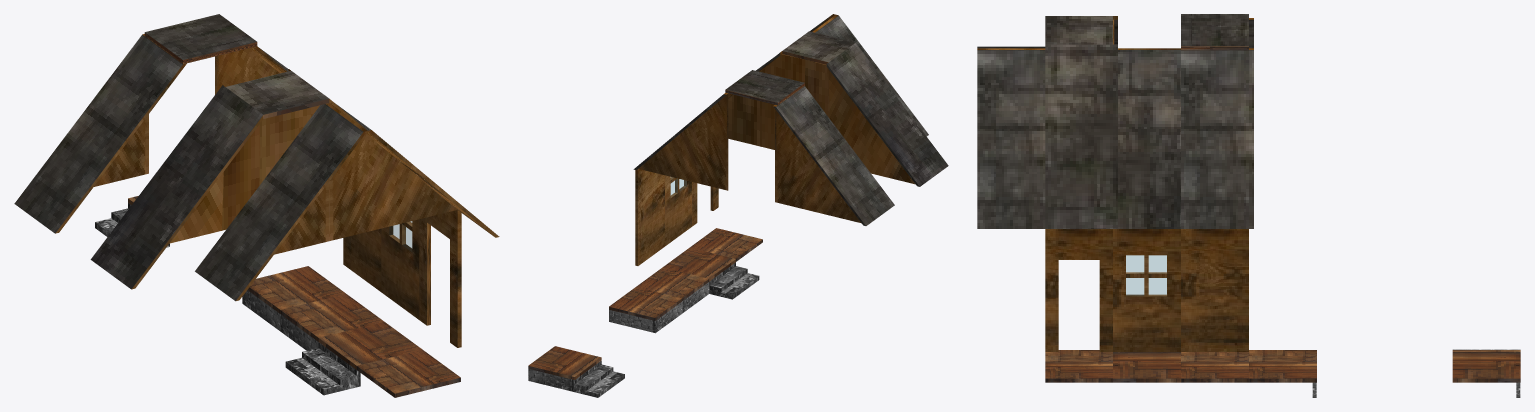
File: ModularHouse2.0.glb
3 renders of one model, left to right at view 1: azimuth 30°, elevation 25°; view 2: azimuth 150°, elevation 25°; view 3: azimuth 270°, elevation 25°, orthographic. The views are drawn at different scales.
Parts seen in each view (by area): view 1: Roof.001, RoofCombo, Roof2, StairBase, Top, Base, CornerBase, Door, Window, Floor.002, Roof, Wall (+1 smaller); view 2: RoofCombo, Roof2, Roof, CornerStair, Wall, StairBase, CornerBase, Base, Top, Window, Floor.002, Roof.001 (+1 smaller); view 3: RoofCombo, Roof, Roof.001, RoofExtender, Wall, Window, Door, Top, CornerStair, CornerBase, Floor.002, Base (+1 smaller).
Part boxes in pixels (x1,y1,x2,y2): Roof.001: (195,102,499,301); RoofCombo: (90,69,367,289); Roof2: (14,34,186,233); StairBase: (285,322,422,395); Top: (144,14,257,64); Base: (280,294,384,350); CornerBase: (242,266,345,330); Door: (419,210,461,347); Window: (381,219,419,319); Floor.002: (356,349,460,397); Roof: (215,46,286,94); Wall: (343,228,381,291); RoofCombo: (728,31,948,186); Roof2: (773,86,894,225); Roof: (633,92,730,190); CornerStair: (528,346,624,397); Wall: (635,169,664,265); StairBase: (663,247,759,299); CornerBase: (609,287,682,333); Base: (636,267,709,313); Top: (725,70,804,105); Window: (665,175,691,246); Floor.002: (690,228,762,261); Roof.001: (810,14,928,136); RoofCombo: (1045,16,1117,228); Roof: (1181,48,1253,228); Roof.001: (977,46,1045,228); RoofExtender: (1118,48,1180,228); Wall: (1181,229,1248,351); Window: (1113,229,1180,351); Door: (1045,229,1112,351); Top: (1181,14,1248,50); CornerStair: (1452,349,1520,397); CornerBase: (1249,350,1316,397); Floor.002: (1045,350,1112,382); Base: (1181,352,1248,382).
Bounding box in the file's own units: 10.01 × 9.63 × 16.
Materials: 5 (4 with a texture image).
